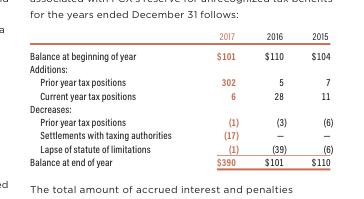table: (29, 29, 332, 167)
table column: (29, 29, 193, 167), (193, 29, 251, 167), (251, 29, 298, 167), (298, 29, 332, 167)
table column header: (29, 29, 332, 45)
table projected row header: (29, 61, 332, 74), (29, 101, 332, 114)
table row: (29, 29, 332, 45), (29, 45, 332, 61), (29, 74, 332, 88), (29, 127, 332, 141), (29, 61, 332, 74), (29, 88, 332, 101), (29, 101, 332, 114), (29, 114, 332, 127), (29, 141, 332, 154), (29, 154, 332, 167)
